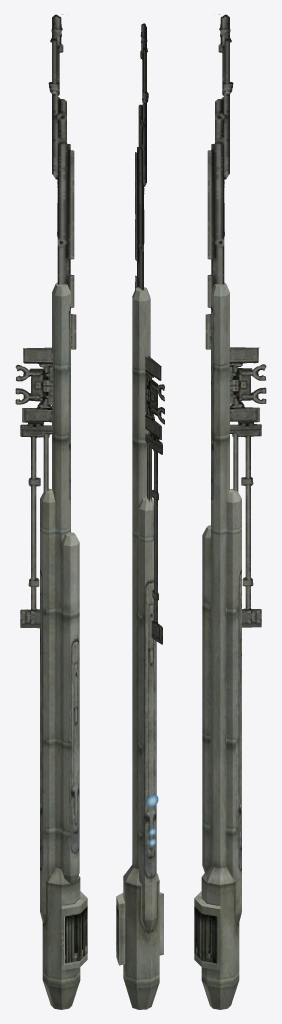
The model's file is thm_corl_power_arial_prime_l0.fbx.
3 views of the same model, side by side, from view 1: azimuth 90°, elevation 25°; view 2: azimuth 210°, elevation 25°; view 3: azimuth 270°, elevation 25° (orthographic).
Parts seen in each view (by area): view 1: mesh_node; view 2: mesh_node; view 3: mesh_node.
Boxes of the visible parts, left/top/right/bottom form: mesh_node: left=15, top=14, right=87, bottom=1009; mesh_node: left=116, top=23, right=164, bottom=1009; mesh_node: left=194, top=14, right=266, bottom=1009.
Bounding box in the file's own units: 0.6903 × 14.41 × 0.9681.
